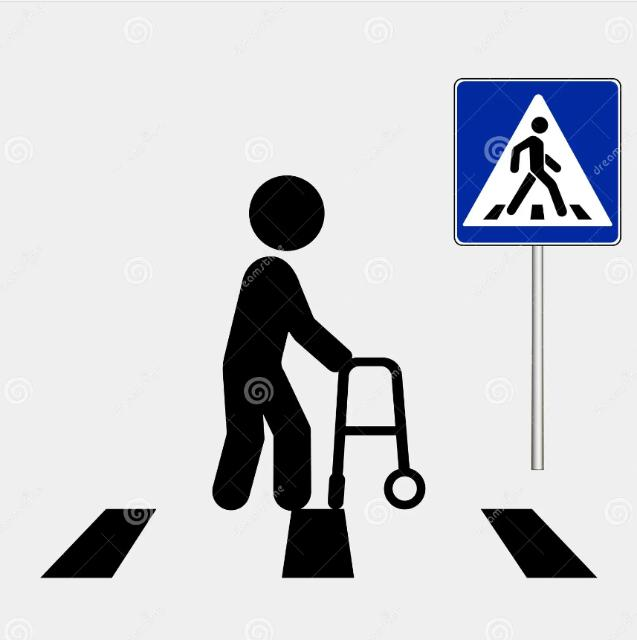crosswalk-sign: (454, 79, 622, 247)
